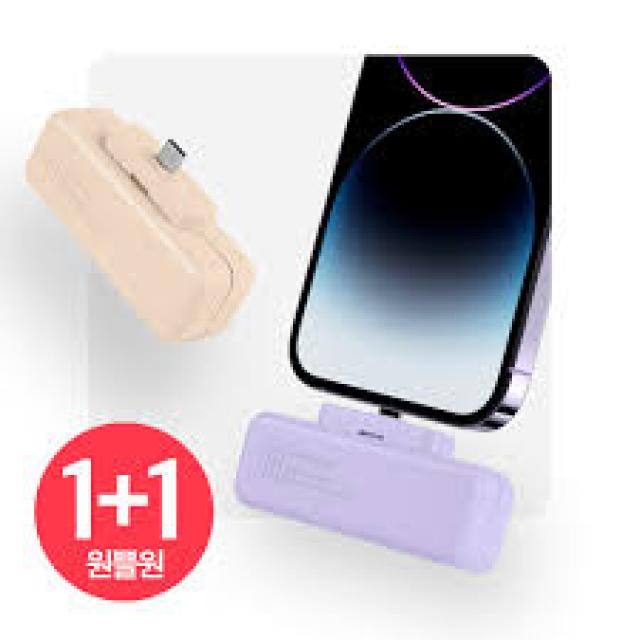power_bank: (22, 102, 256, 347), (228, 396, 515, 580)
